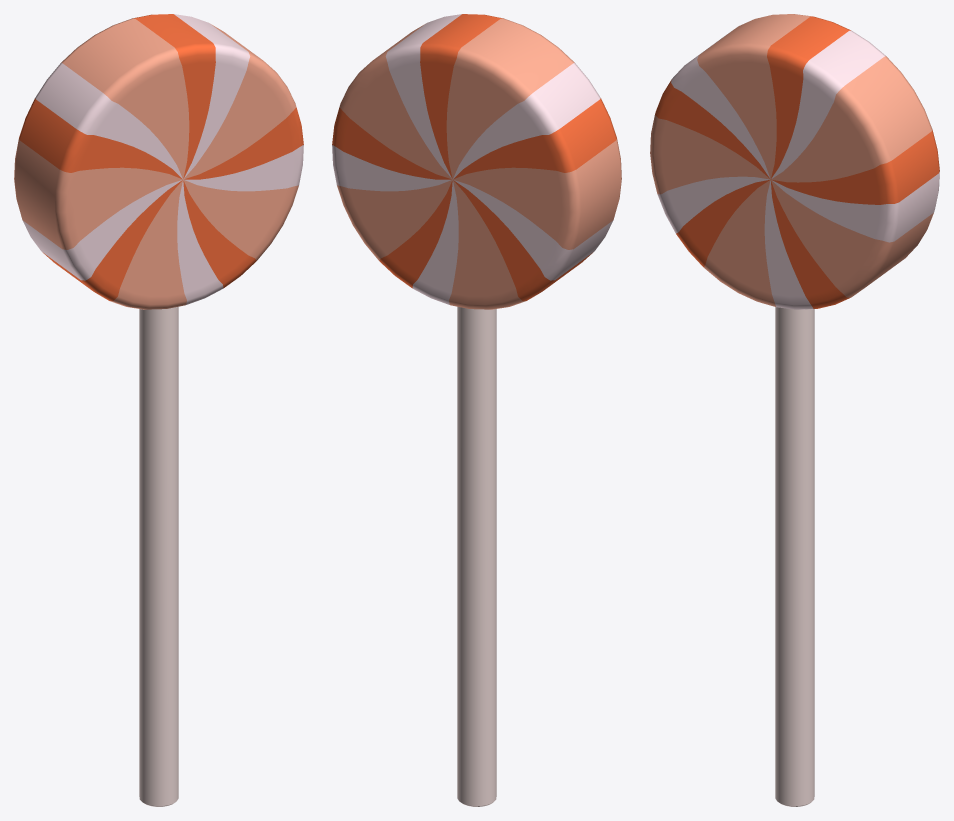
File: Store_8_Candy_6.glb
The picture shows the model from 3 angles, left to right: view 1: azimuth 30°, elevation 25°; view 2: azimuth 150°, elevation 25°; view 3: azimuth 330°, elevation 25°; orthographic projection.
Parts seen in each view (by area): view 1: Store_8_Candy_6; view 2: Store_8_Candy_6; view 3: Store_8_Candy_6.
Part boxes in pixels (x1,y1,x2,y2): Store_8_Candy_6: (14,14,303,806); Store_8_Candy_6: (332,14,621,806); Store_8_Candy_6: (650,14,939,806).
Bounding box in the file's own units: 0.5626 × 1.66 × 0.1903.
1 material, 1 textured.
